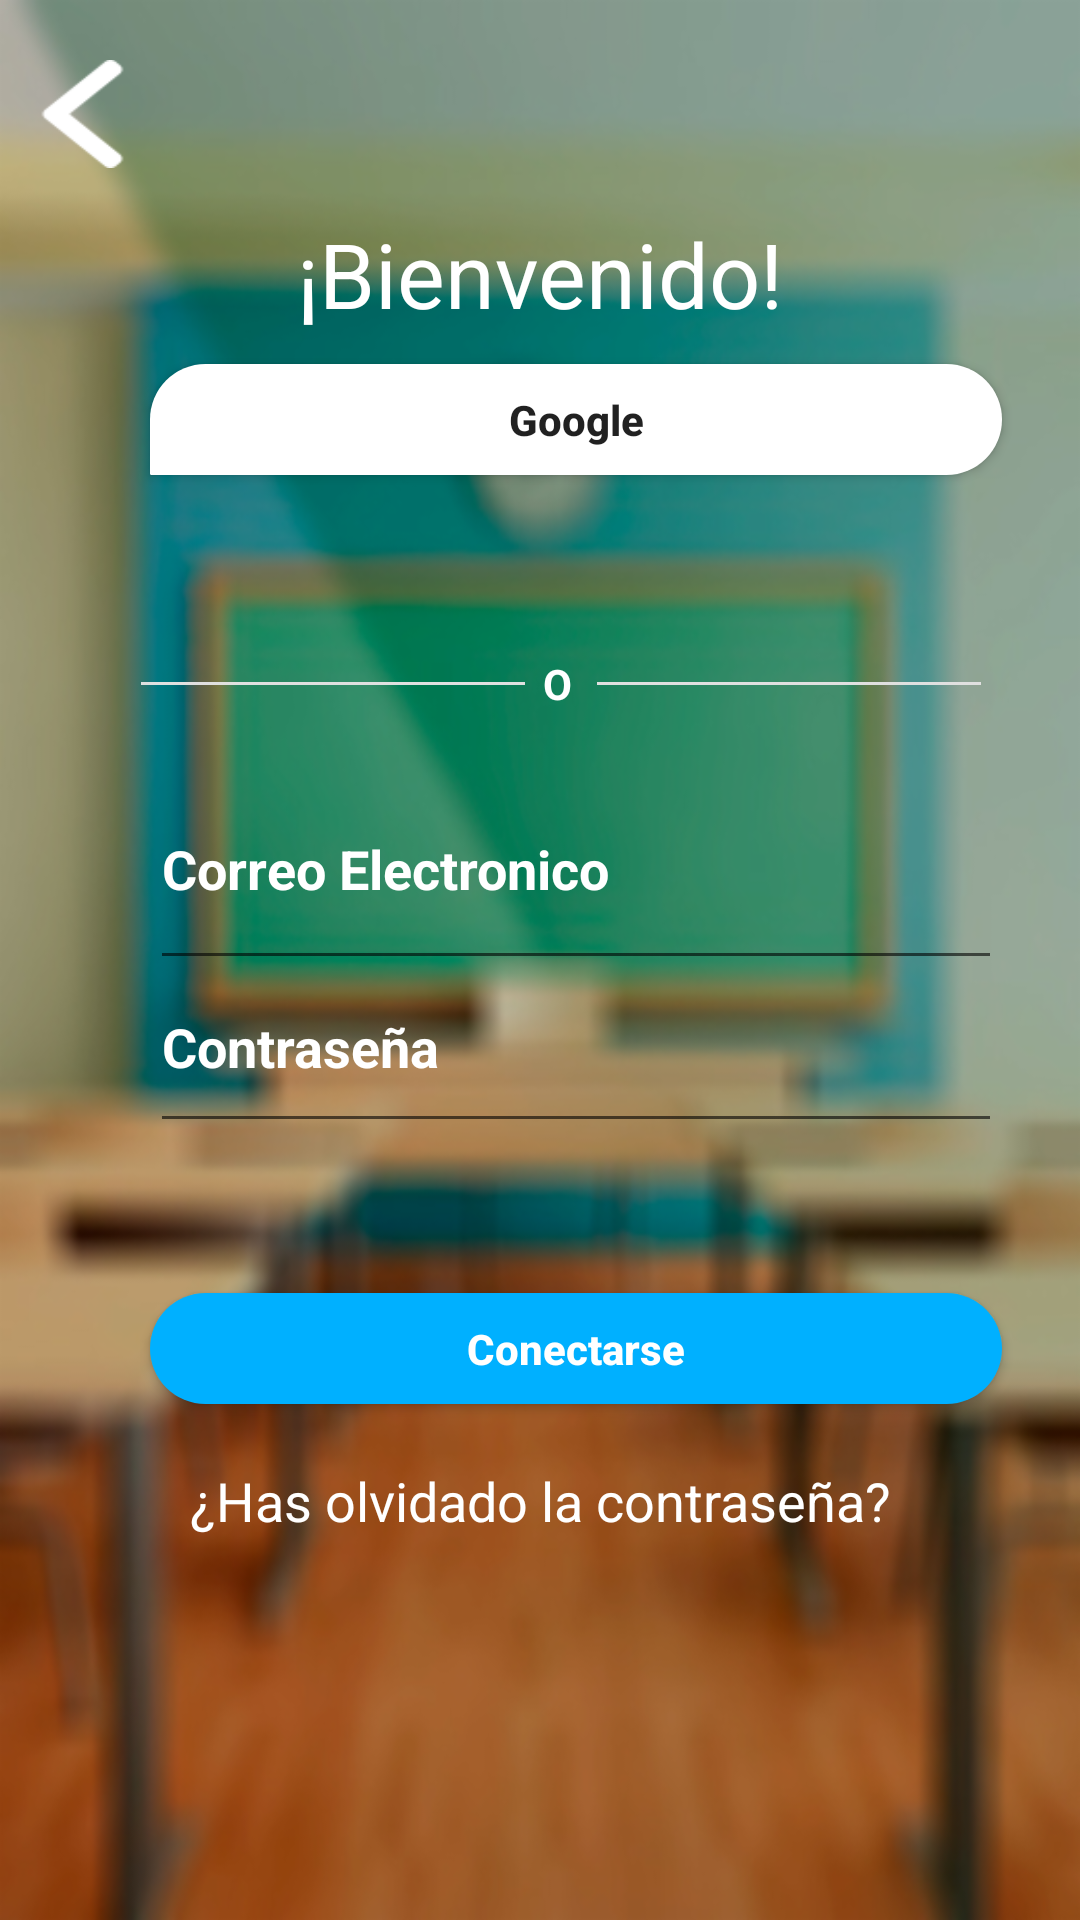

Named icons in this screenshot (1080px x 1920px) and their centers, point (x, y):
back: point (82, 114)
